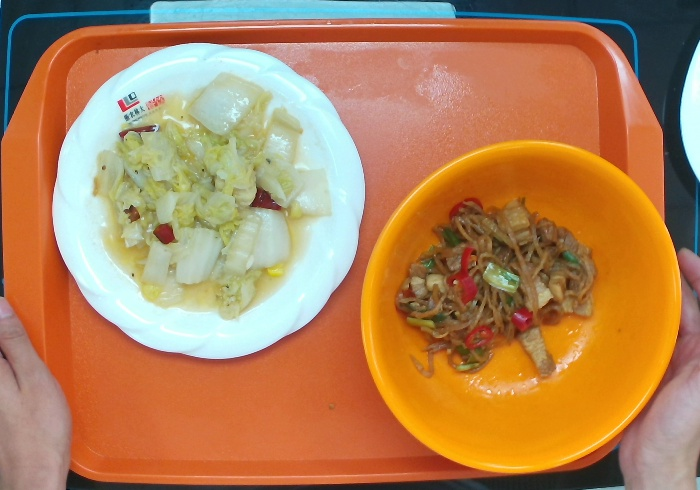ZNLD-Hua_Bian_Wan: (49, 41, 366, 361)
ZNLD-Ju_Se_Tang_Wan: (357, 137, 683, 475)
